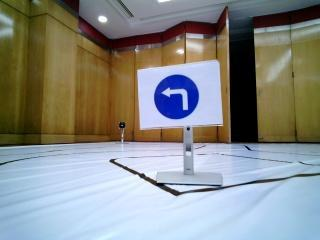left: (136, 69, 219, 129)
